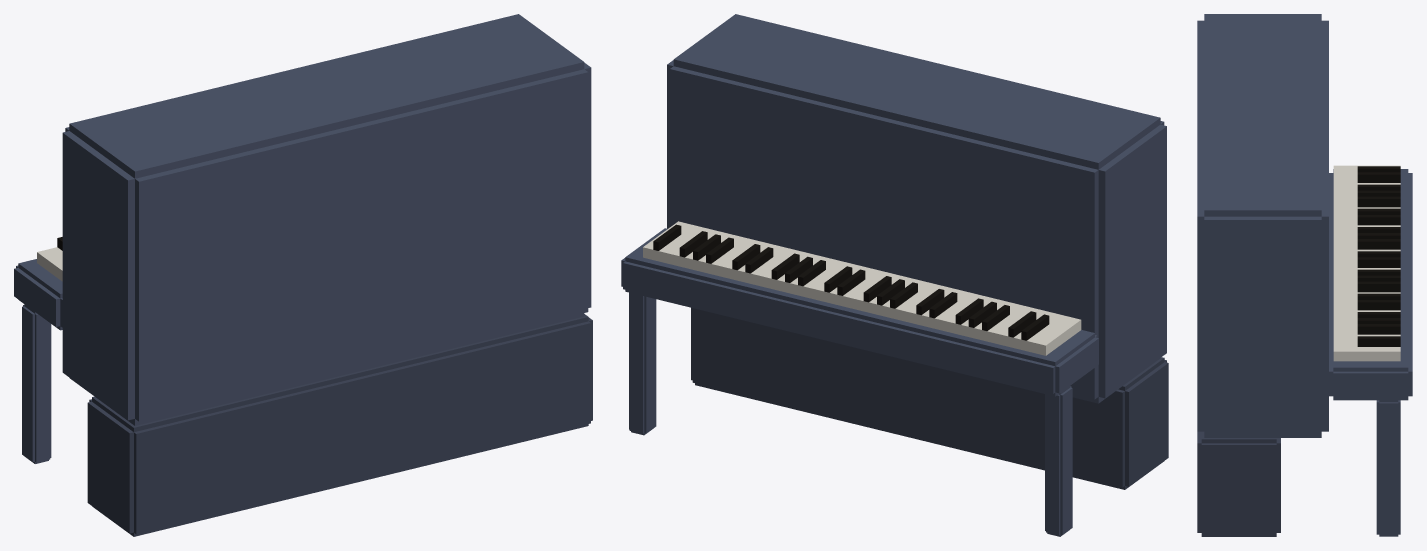
File: granite_piano_v0.glb
3 views of the same model, side by side, from view 1: azimuth 30°, elevation 25°; view 2: azimuth 150°, elevation 25°; view 3: azimuth 270°, elevation 25° (orthographic). The views are drawn at different scales.
Parts seen in each view (by area): view 1: granite_piano_v0; view 2: granite_piano_v0; view 3: granite_piano_v0.
Boxes of the visible parts, x1,y1,x2,y2 form: granite_piano_v0: [14, 14, 592, 536]; granite_piano_v0: [621, 14, 1168, 536]; granite_piano_v0: [1197, 14, 1412, 536].
Size of the model in its own units: 2 by 1.5 by 0.9.
